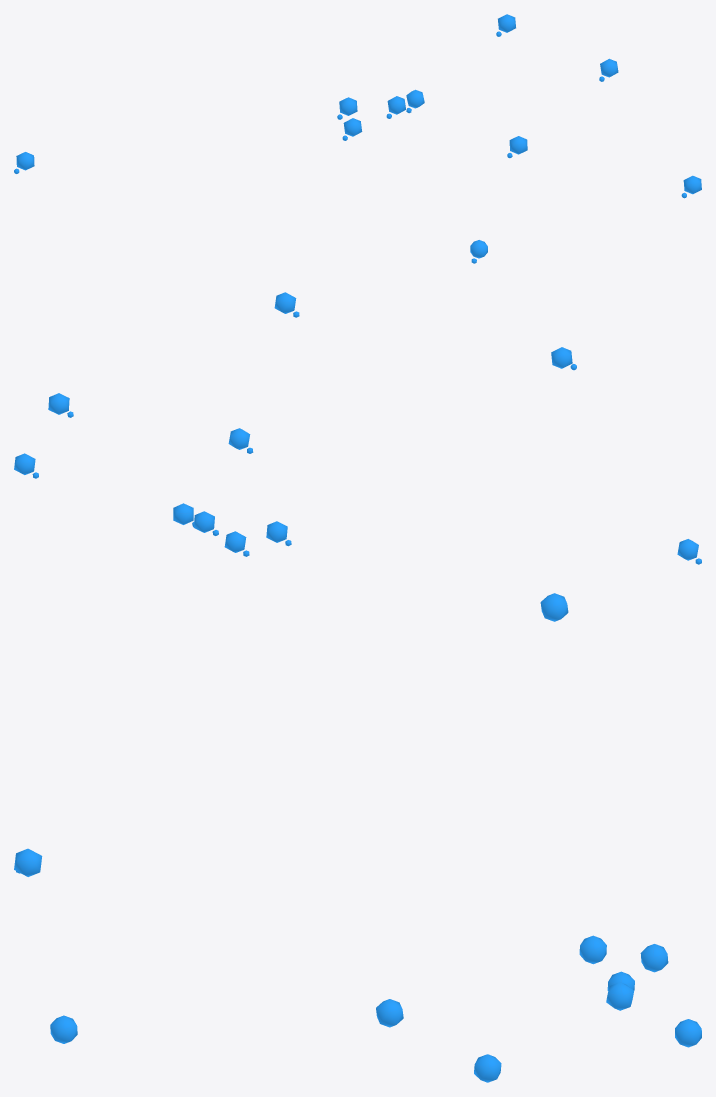
The model's file is model_chunk_14.glb.
3 views of the same model, one above another, from view 1: azimuth 30°, elevation 25°; view 2: azimuth 150°, elevation 25°; view 3: azimuth 270°, elevation 25° (orthographic). The views are drawn at different scales.
Size of the model in its own units: 0.9683 by 0.1254 by 0.651.
1 material, 1 textured.
